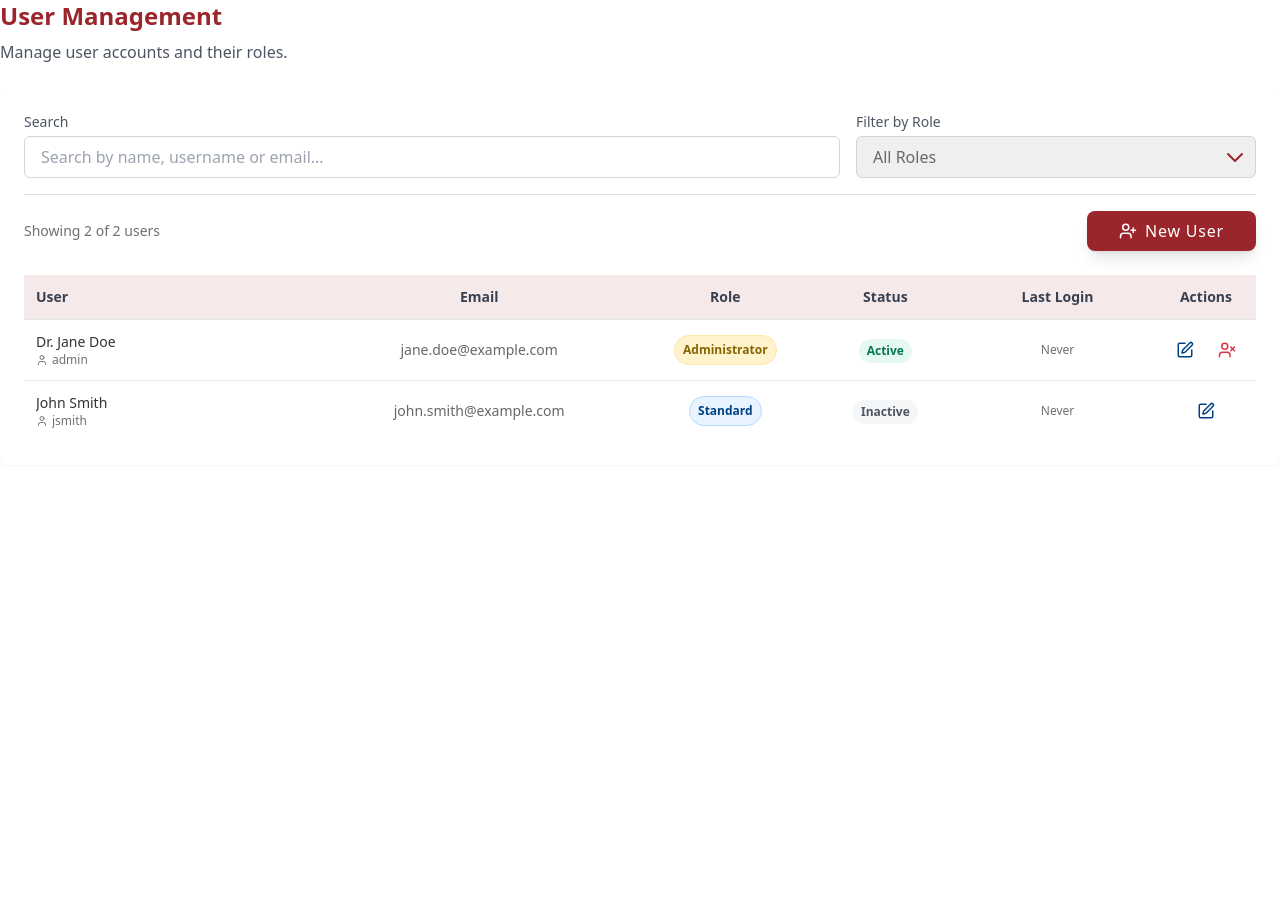
Test case: DashboardUserManagement › asks for confirmation before deactivating a user
This screenshot has width=1280, height=900.
Later steps or results of the test are not shown.
Expected: the text "Dr. Jane Doe" is shown, [36,332,116,351]
Click the button named "Deactivate Dr. Jane Doe" at (1227,350), box [1210,333,1244,367]
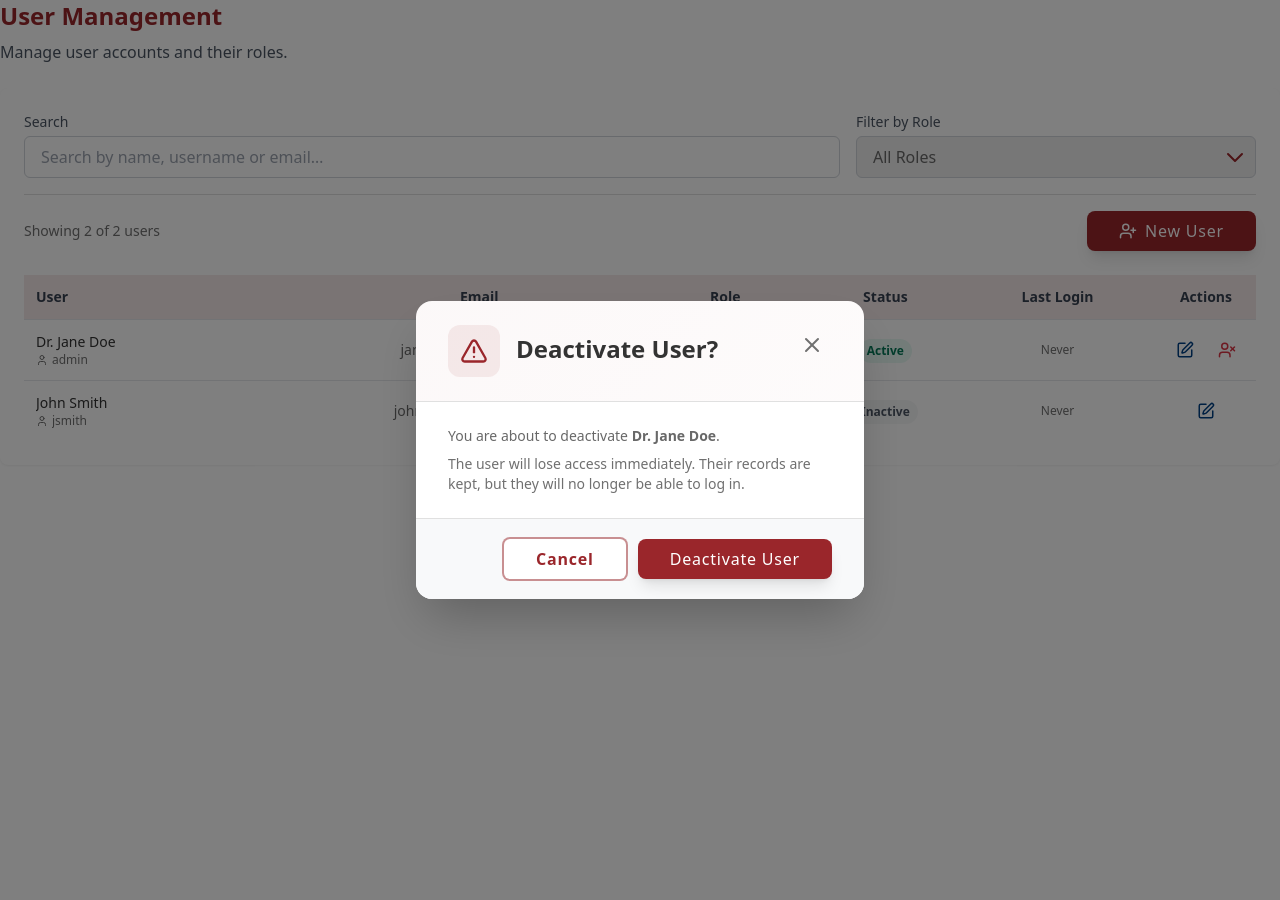
Result: the heading "Deactivate User?" is shown at [516,333,718,365]
